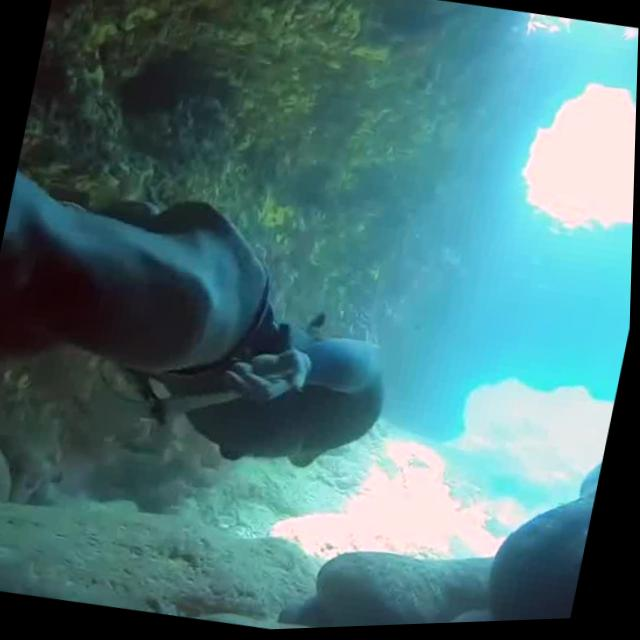human: (0, 99, 443, 640)
